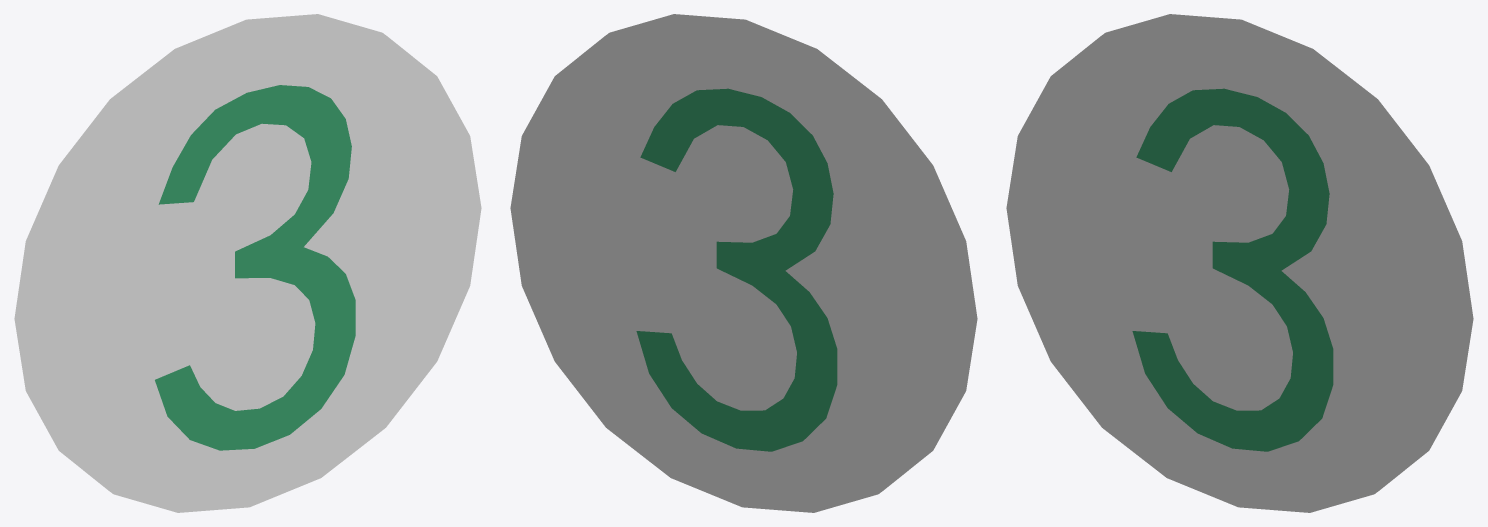
The model's file is text_window3.fbx.
3 renders of one model, left to right at view 1: azimuth 30°, elevation 25°; view 2: azimuth 150°, elevation 25°; view 3: azimuth 330°, elevation 25°, orthographic.
Parts seen in each view (by area): view 1: text_window3; view 2: text_window3; view 3: text_window3.
Part boxes in pixels (left/top/right/bottom): text_window3: left=14, top=14, right=481, bottom=512; text_window3: left=510, top=14, right=977, bottom=512; text_window3: left=1006, top=14, right=1473, bottom=512.
Bounding box in the file's own units: 33.29 × 33.29 × 1.78.
